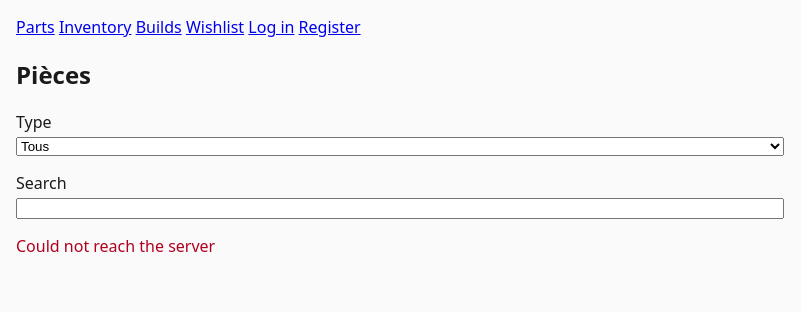
Test case: App routes › the Inventory link shows its page
The image size is (801, 312).
Click the link "Inventory": (95, 27) [59, 16, 132, 38]
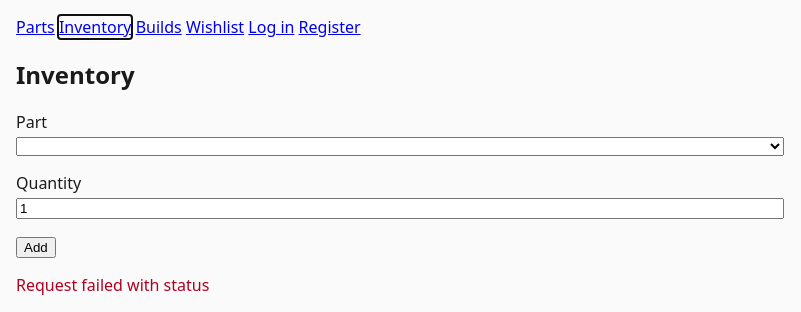
Expected: the heading "Inventory" is shown, [16, 58, 134, 91]
